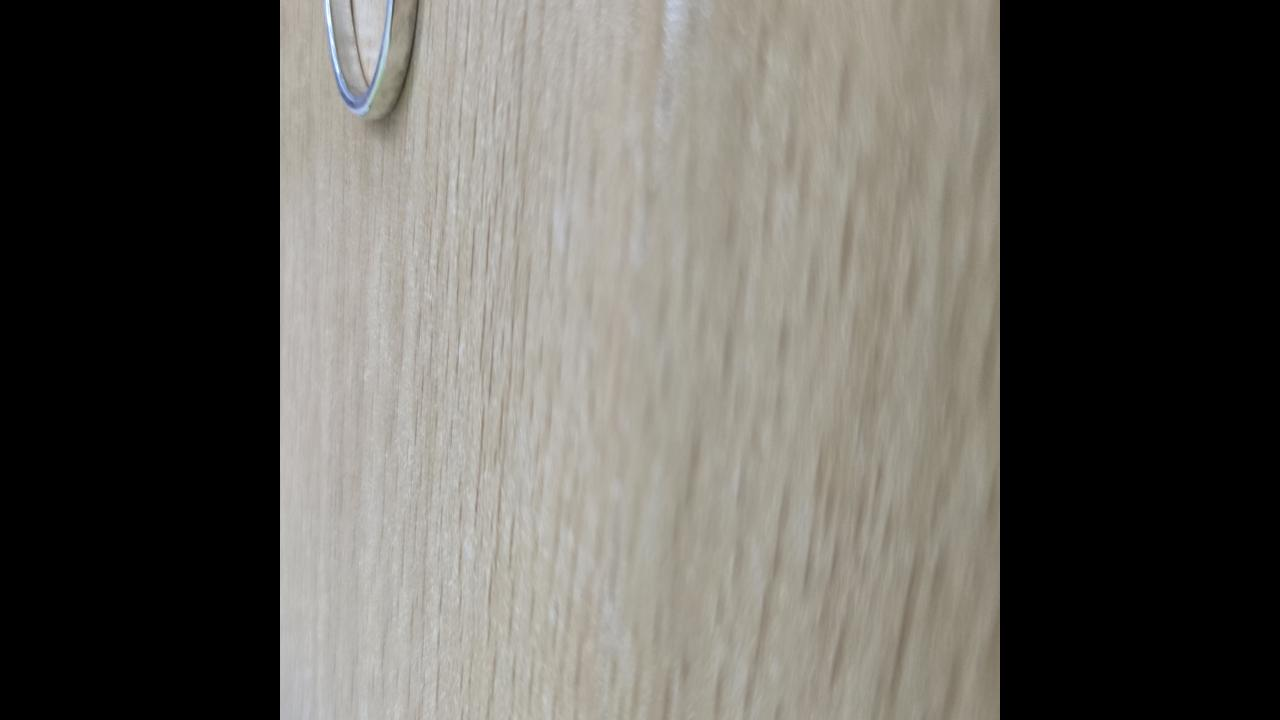ring: (322, 0, 421, 118)
